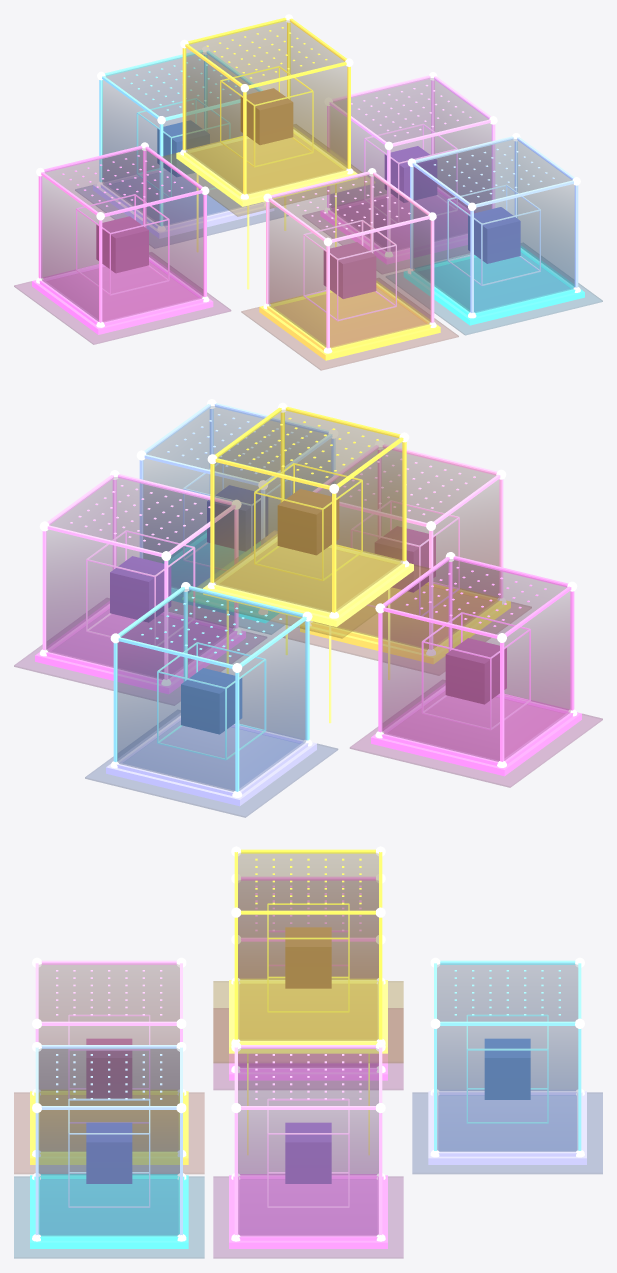
The model's file is tech_cubes.glb.
3 renders of one model, top to bottom at view 1: azimuth 30°, elevation 25°; view 2: azimuth 150°, elevation 25°; view 3: azimuth 270°, elevation 25°, orthographic. The views are drawn at different scales.
Parts seen in each view (by area): view 1: frontleft, backleft, topcube, front, frontright, backright; view 2: backleft, backright, topcube, frontright, frontleft, front; view 3: frontright, front, backright, topcube, frontleft, backleft.
Boxes of the visible parts, bbox=[...] form: frontleft: bbox=[241, 168, 458, 370]; backleft: bbox=[14, 142, 230, 344]; topcube: bbox=[162, 14, 375, 289]; front: bbox=[386, 133, 602, 335]; frontright: bbox=[302, 72, 497, 273]; backright: bbox=[75, 46, 288, 248]; backleft: bbox=[350, 552, 602, 787]; backright: bbox=[85, 582, 337, 817]; topcube: bbox=[182, 402, 430, 723]; frontright: bbox=[14, 470, 266, 705]; frontleft: bbox=[283, 440, 531, 675]; front: bbox=[136, 399, 338, 634]; frontright: bbox=[213, 1042, 403, 1258]; front: bbox=[14, 1042, 204, 1258]; backright: bbox=[412, 957, 602, 1173]; topcube: bbox=[213, 846, 403, 1155]; frontleft: bbox=[14, 957, 204, 1173]; backleft: bbox=[213, 874, 403, 1089].
Bounding box in the file's own units: 4.08 × 1.96 × 4.08.
